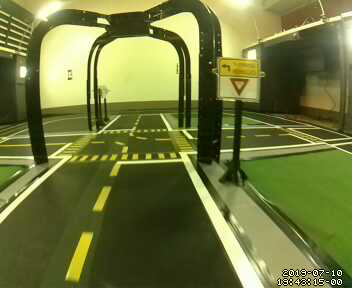Turn Yield: (217, 55, 261, 102)
